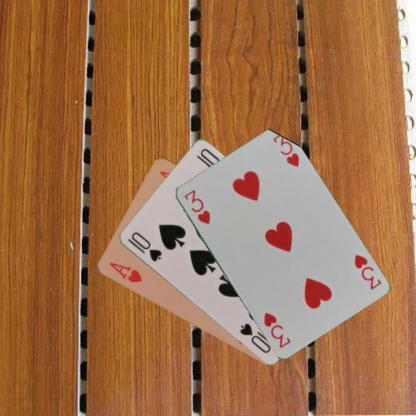10s: (125, 229, 163, 263)
3h: (352, 251, 382, 292), (182, 187, 212, 226)
Ah: (106, 260, 144, 284)
